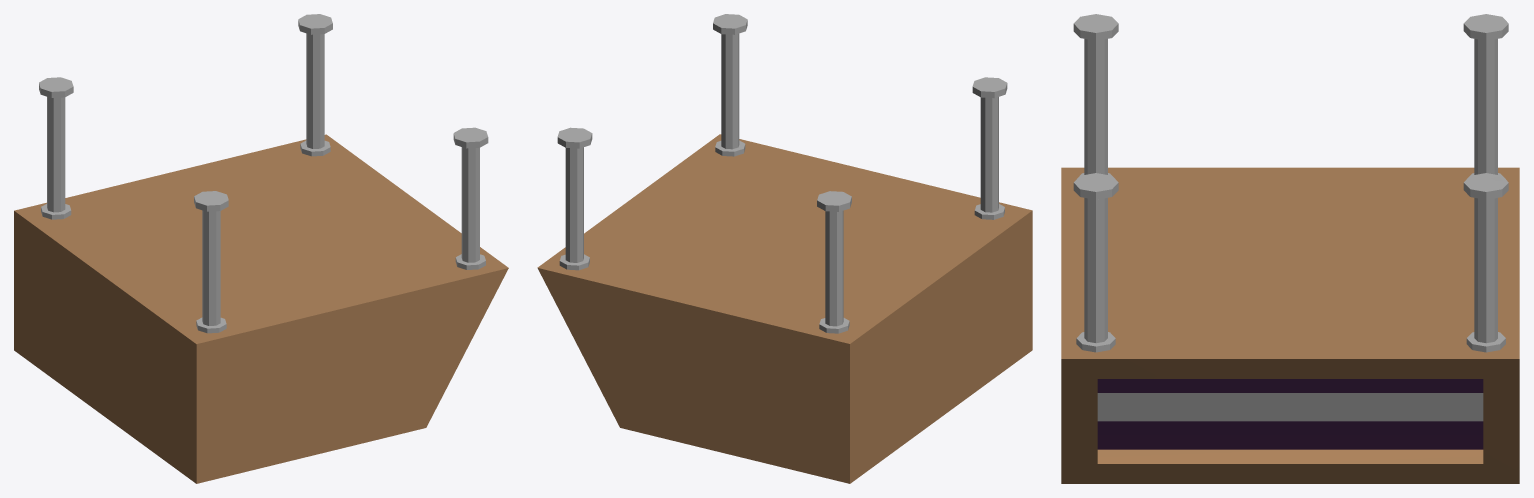
Rendered from SM_donutsCounter_05.glb.
3 views of the same model, side by side, from view 1: azimuth 30°, elevation 25°; view 2: azimuth 150°, elevation 25°; view 3: azimuth 270°, elevation 25° (orthographic). The views are drawn at different scales.
Visible parts, largest first — view 1: SM_donutsCounter_05; view 2: SM_donutsCounter_05; view 3: SM_donutsCounter_05.
Part boxes in pixels (bbox=[...]): SM_donutsCounter_05: bbox=[14, 14, 508, 483]; SM_donutsCounter_05: bbox=[537, 14, 1032, 483]; SM_donutsCounter_05: bbox=[1061, 14, 1519, 483].
Bounding box in the file's own units: 0.9887 × 0.812 × 1.
1 material, 1 textured.
